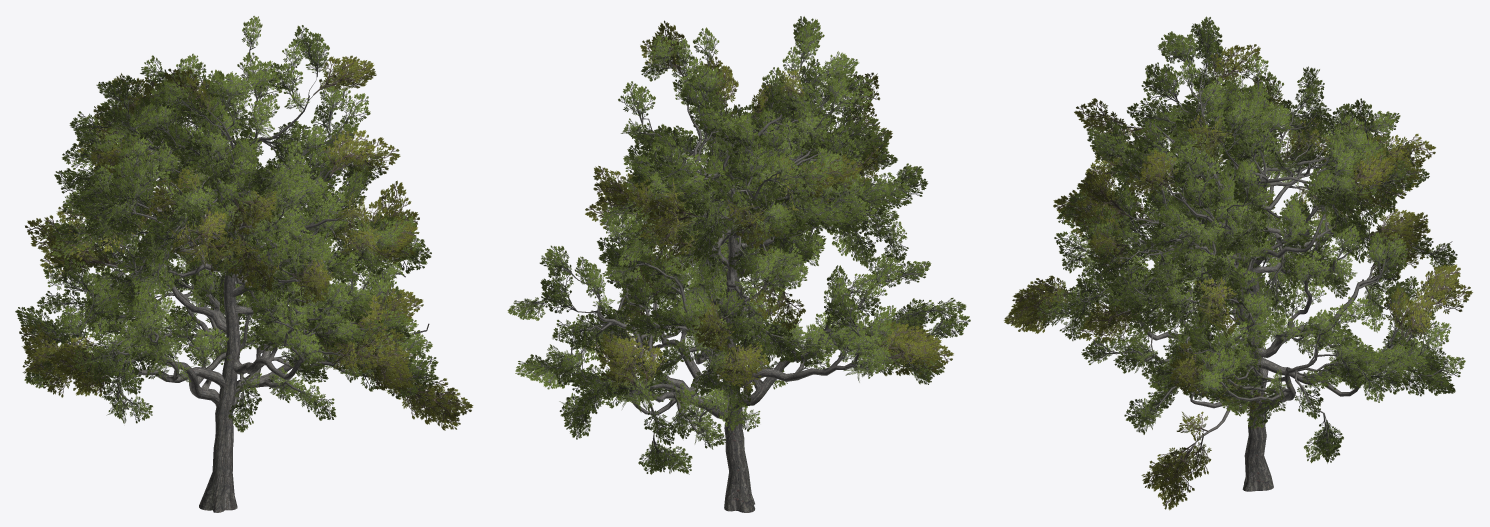
File: tc_tree.glb
The picture shows the model from 3 angles, left to right: view 1: azimuth 30°, elevation 25°; view 2: azimuth 150°, elevation 25°; view 3: azimuth 270°, elevation 25°; orthographic projection. The views are drawn at different scales.
Visible parts, largest first — view 1: TreeCreator_Crinkly_B__1_; view 2: TreeCreator_Crinkly_B__1_; view 3: TreeCreator_Crinkly_B__1_.
Boxes of the visible parts, x1=… form: TreeCreator_Crinkly_B__1_: x1=15, y1=15, x2=473, y2=512; TreeCreator_Crinkly_B__1_: x1=507, y1=16, x2=970, y2=512; TreeCreator_Crinkly_B__1_: x1=1004, y1=16, x2=1472, y2=510.
Size of the model in its own units: 37.98 by 42.63 by 40.71.
Materials: 2 (2 with a texture image).
